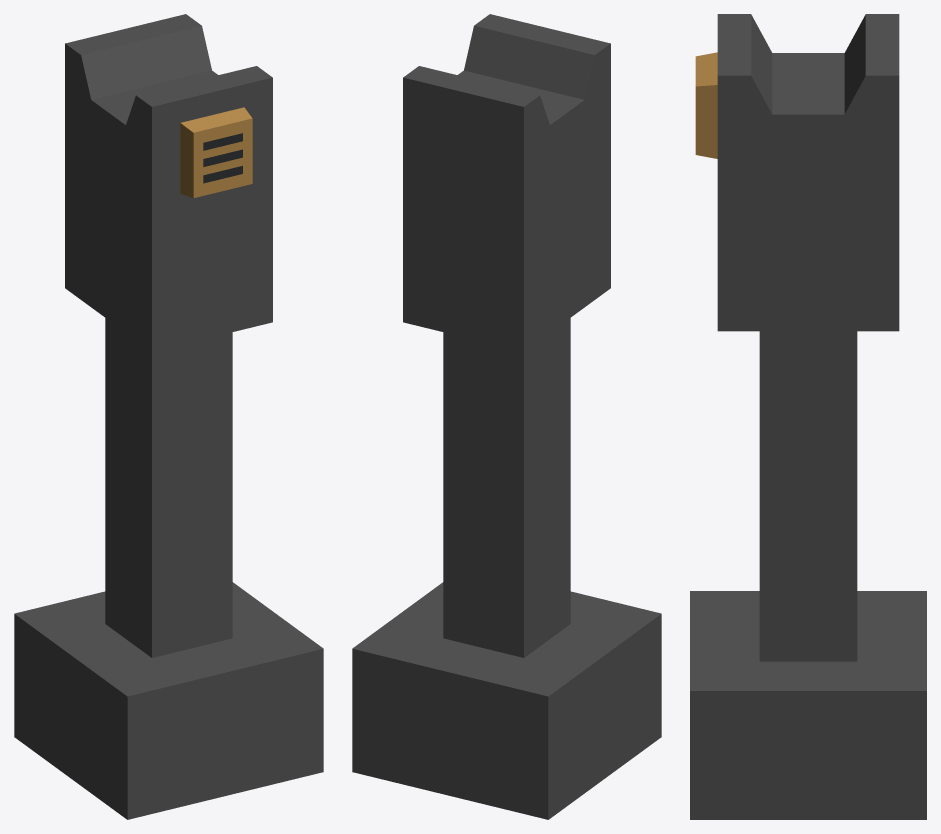
Rendered from SM_Prop_Road_Barrier_01.glb.
3 renders of one model, left to right at view 1: azimuth 30°, elevation 25°; view 2: azimuth 150°, elevation 25°; view 3: azimuth 270°, elevation 25°, orthographic. The views are drawn at different scales.
Parts seen in each view (by area): view 1: SM_Prop_Road_Barrier_01; view 2: SM_Prop_Road_Barrier_01; view 3: SM_Prop_Road_Barrier_01.
Part boxes in pixels (bbox=[...]): SM_Prop_Road_Barrier_01: bbox=[14, 14, 323, 819]; SM_Prop_Road_Barrier_01: bbox=[352, 14, 661, 819]; SM_Prop_Road_Barrier_01: bbox=[690, 14, 926, 819].
Size of the model in its own units: 0.3878 by 1.31 by 0.3878.
Materials: 1 (1 with a texture image).
